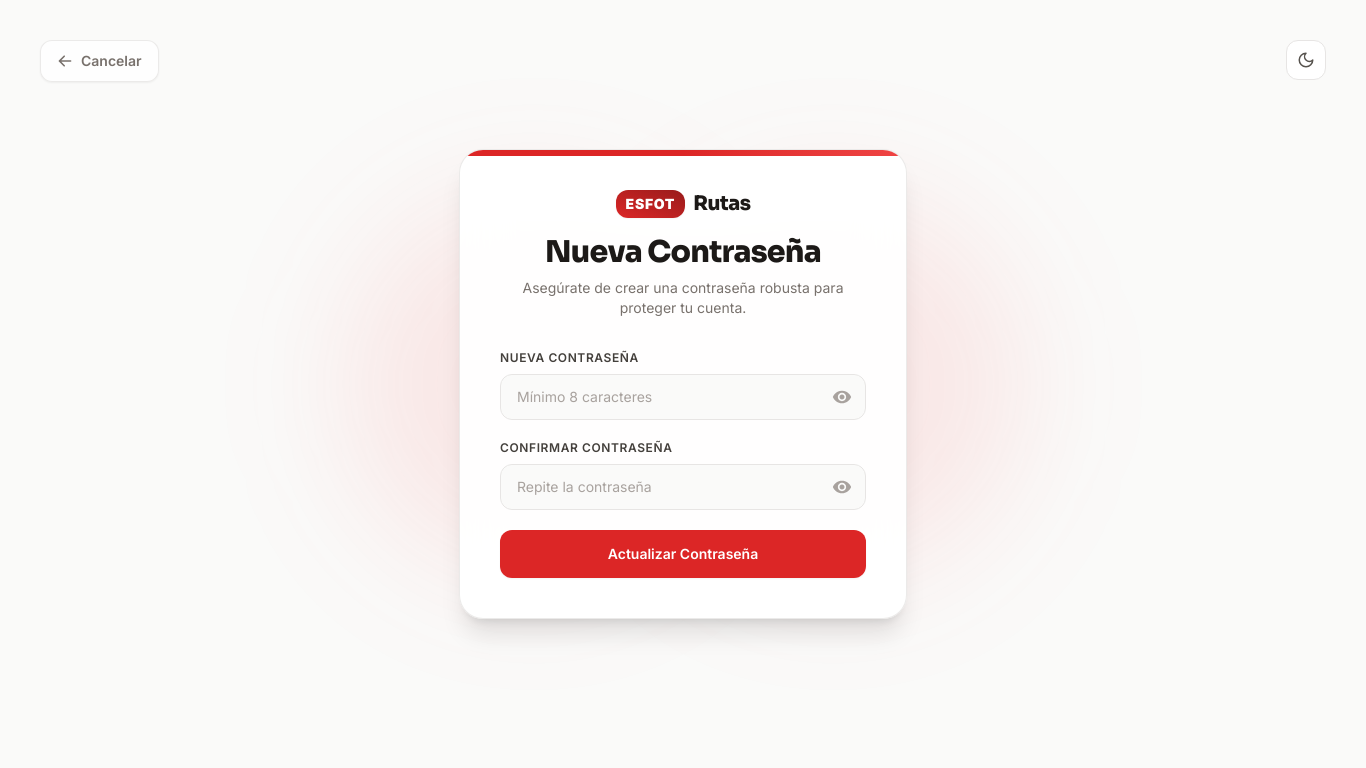
Test: Reset — feedback dentro de la tarjeta › avisa inline y NO llama al backend si falta el token
The image size is (1366, 768).
In the password field with placeholder "Mínimo 8 caracteres": (683, 397) [500, 374, 866, 420], type "NuevaClave123"
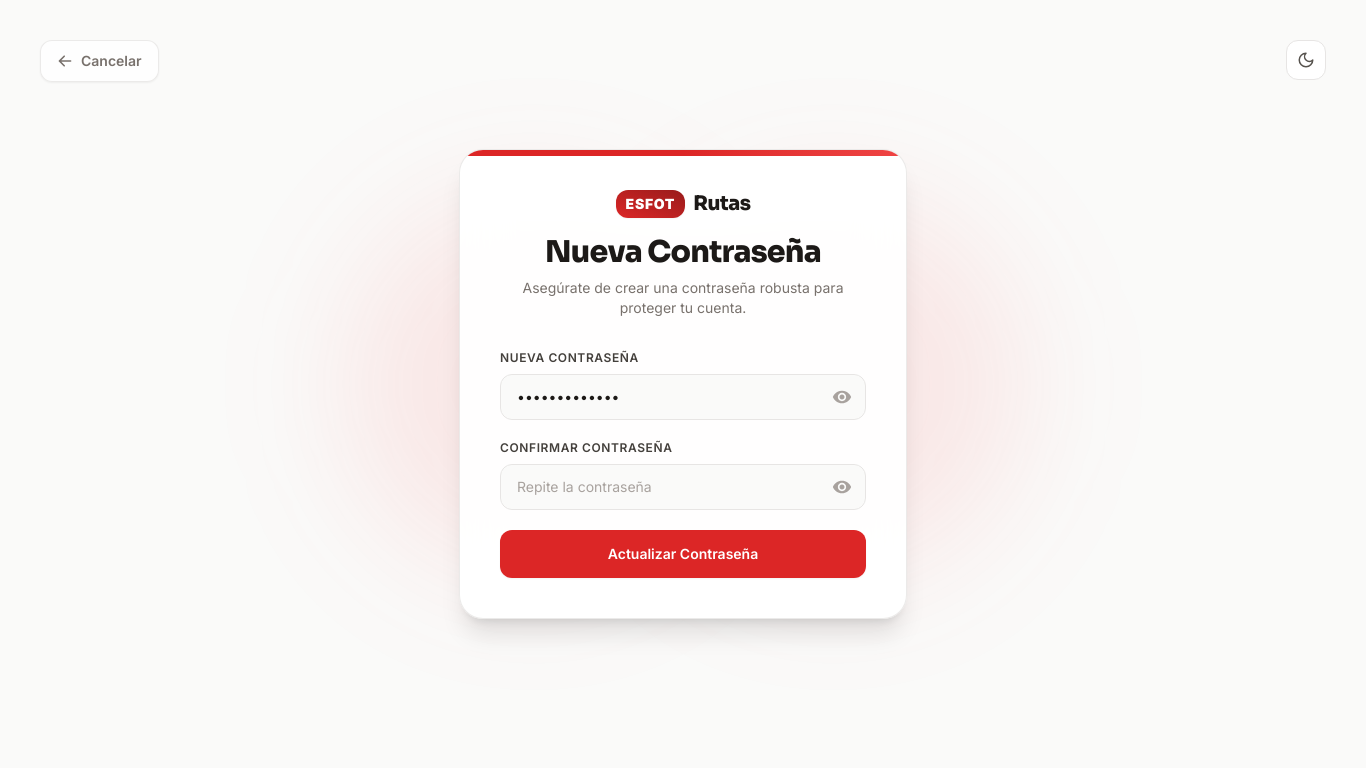
In the password field with placeholder "Repite la contraseña": (683, 487) [500, 464, 866, 510], type "NuevaClave123"
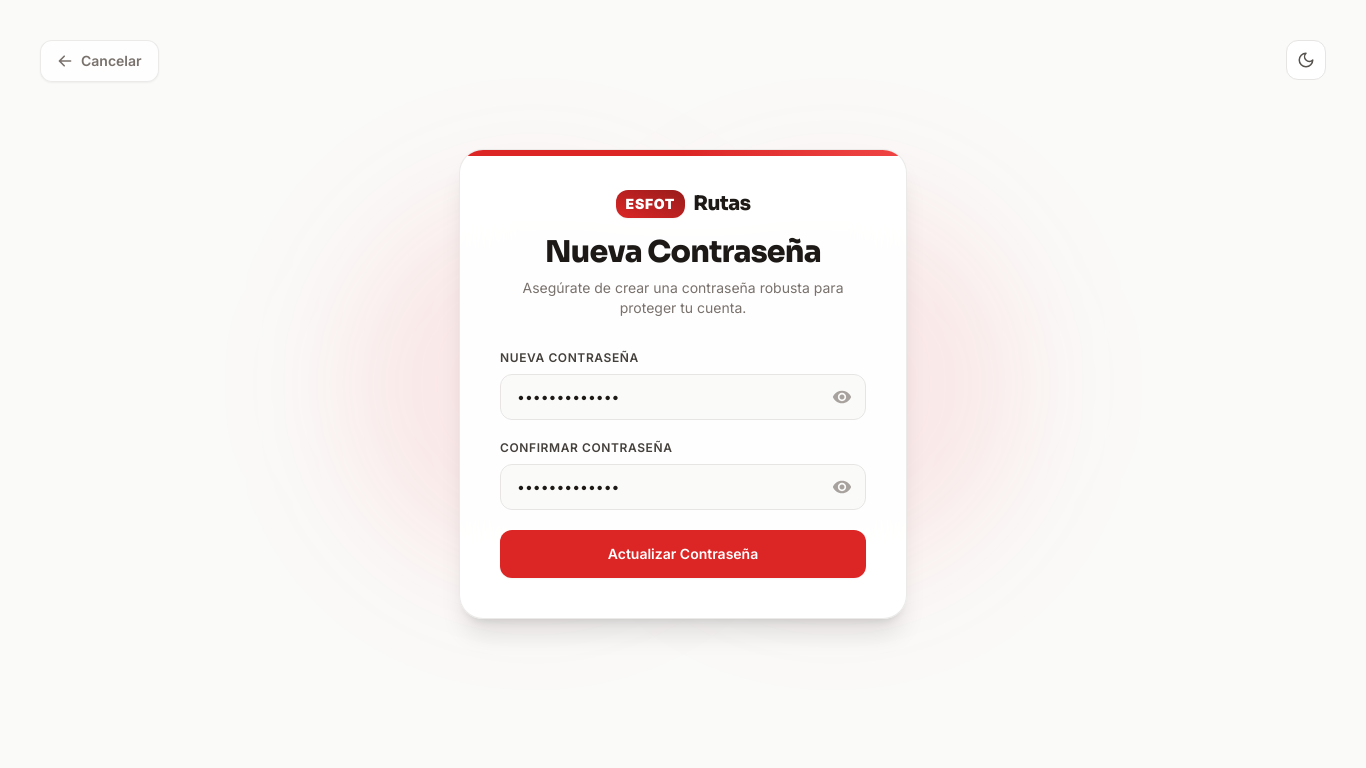
Click the button "Actualizar Contraseña": (683, 554) [500, 530, 866, 578]
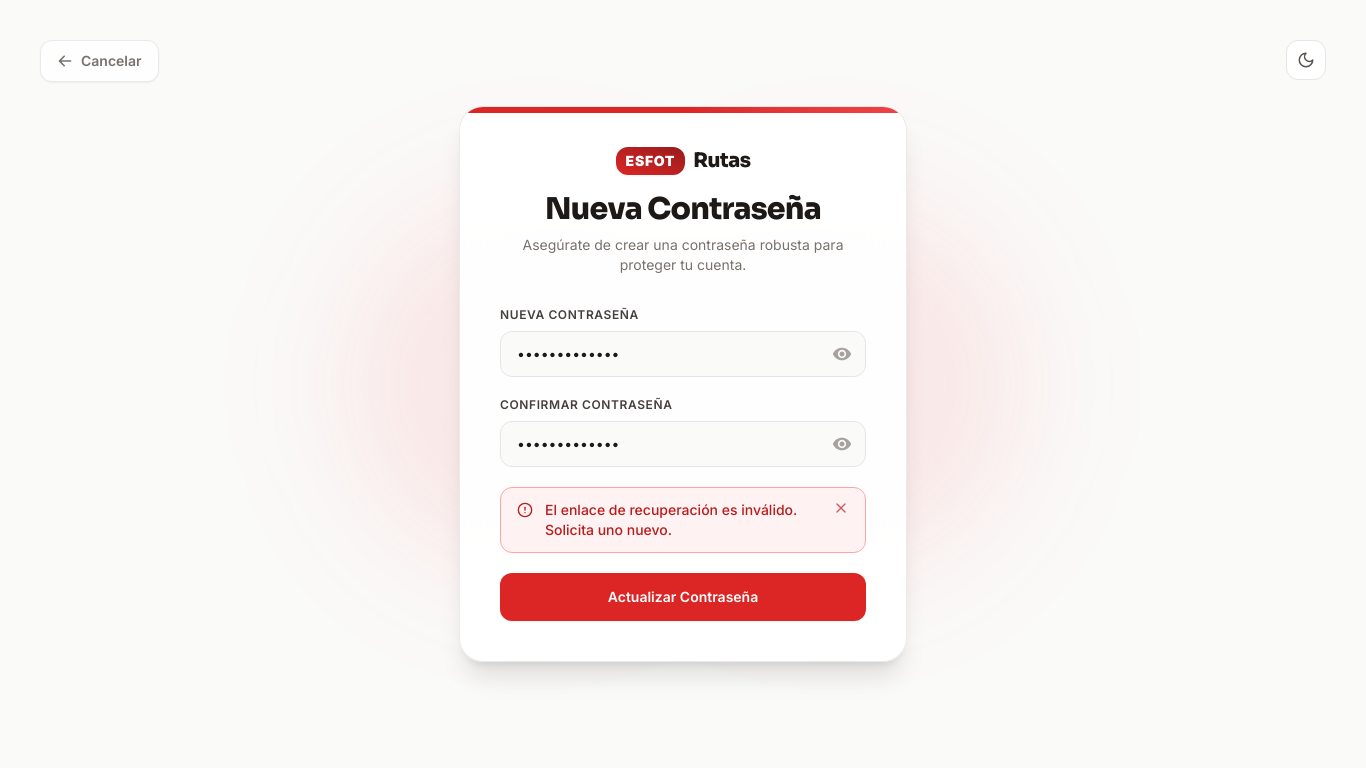
Result: the message reads "El enlace de recuperación es inválido. Solicita uno nuevo." at [545, 501, 797, 538]
